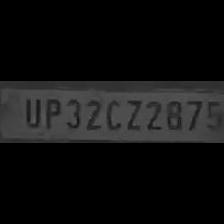2: (83, 96, 103, 132), (141, 96, 161, 132)
3: (61, 96, 80, 130)
5: (202, 95, 222, 133)
7: (183, 96, 203, 132)
8: (162, 96, 182, 132)
C: (102, 96, 120, 132)
P: (42, 94, 62, 130)
U: (20, 94, 40, 130)
Z: (122, 96, 142, 132)
